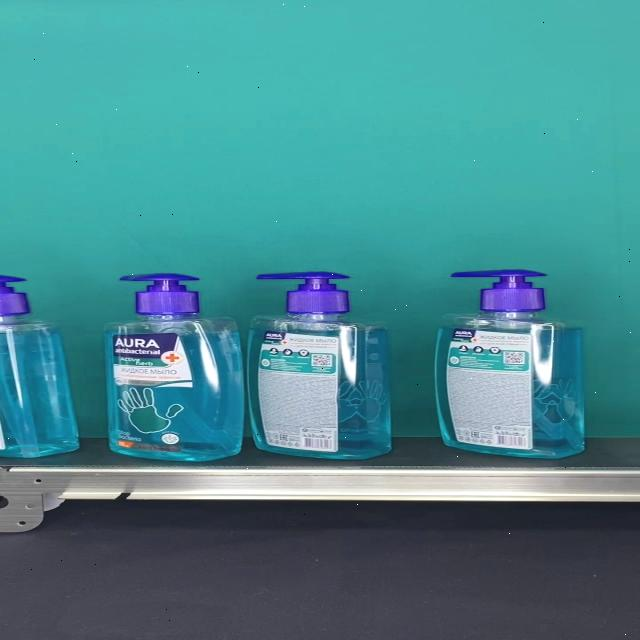Bottle: (434, 270, 584, 459), (249, 272, 392, 459), (105, 273, 244, 461)
Cap: (254, 272, 350, 315), (451, 270, 547, 313), (118, 272, 200, 314)
